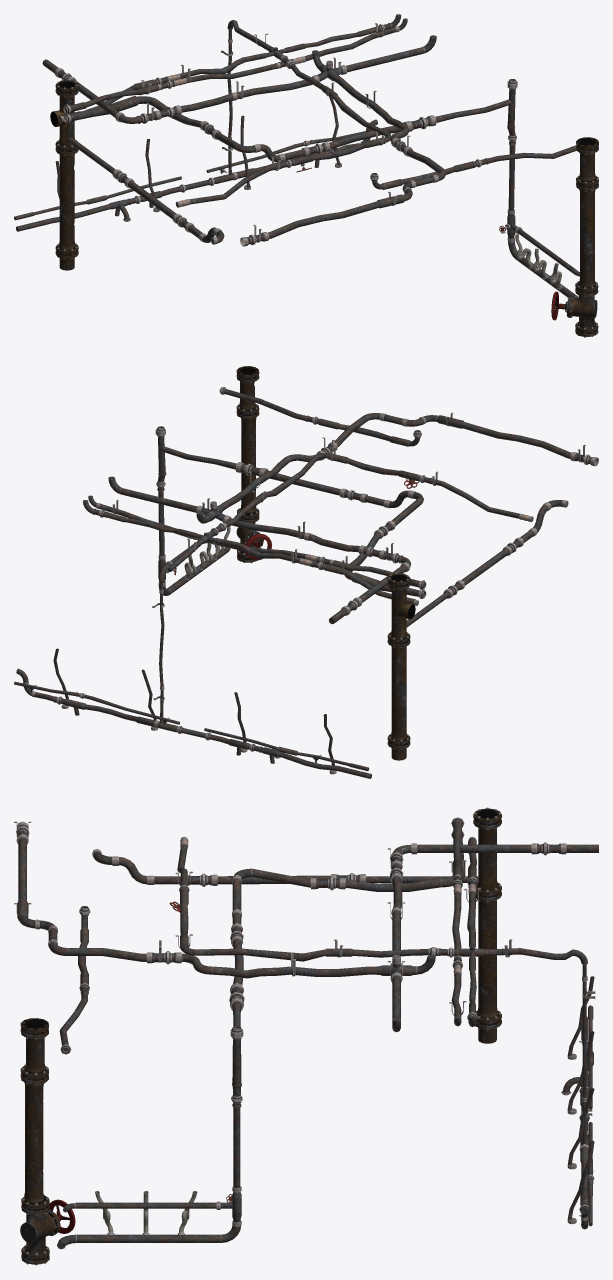
File: Toilet_Tubes_Set.fbx
The picture shows the model from 3 angles, top to bottom: view 1: azimuth 30°, elevation 25°; view 2: azimuth 150°, elevation 25°; view 3: azimuth 270°, elevation 25°; orthographic projection. The views are drawn at different scales.
Parts seen in each view (by area): view 1: TubeThin_Long02_low003, Object183, Tube_Bolt01_low001, BigTube_06_low003, BigTube_06_low002, Tube_Convers02_low001, Tube_X_Form_low003, Object201, Object202, Object180, Object182; view 2: TubeThin_Long02_low003, Tube_Bolt01_low001, Object183, BigTube_06_low002, BigTube_06_low003, Tube_X_Form_low003, Tube_Convers02_low001, Object201, Object180, Object202, Object182; view 3: Object183, TubeThin_Long02_low003, Tube_Bolt01_low001, BigTube_06_low003, BigTube_06_low002, Object201, Tube_Convers02_low001, Object182, Tube_X_Form_low003, Object202, Object180.
Part boxes in pixels (<box>): TubeThin_Long02_low003: <box>42,35,446,246</box>; Object183: <box>65,79,579,298</box>; Tube_Bolt01_low001: <box>59,14,401,244</box>; BigTube_06_low003: <box>551,137,598,337</box>; BigTube_06_low002: <box>50,79,78,270</box>; Tube_Convers02_low001: <box>63,18,407,123</box>; Tube_X_Form_low003: <box>16,119,377,231</box>; Object201: <box>68,137,224,242</box>; Object202: <box>370,145,576,189</box>; Object180: <box>14,131,365,220</box>; Object182: <box>55,96,341,212</box>; TubeThin_Long02_low003: <box>108,412,598,623</box>; Tube_Bolt01_low001: <box>83,453,568,723</box>; Object183: <box>155,426,424,596</box>; BigTube_06_low002: <box>387,573,415,760</box>; BigTube_06_low003: <box>236,366,271,563</box>; Tube_X_Form_low003: <box>16,668,371,778</box>; Tube_Convers02_low001: <box>88,495,426,598</box>; Object201: <box>406,500,563,627</box>; Object180: <box>14,681,369,771</box>; Object202: <box>219,387,421,446</box>; Object182: <box>53,648,336,774</box>; Object183: <box>57,835,465,1249</box>; TubeThin_Long02_low003: <box>14,821,598,1032</box>; Tube_Bolt01_low001: <box>92,836,595,1143</box>; BigTube_06_low003: <box>20,1018,75,1265</box>; BigTube_06_low002: <box>473,807,501,1043</box>; Object201: <box>93,851,479,886</box>; Tube_Convers02_low001: <box>449,817,466,1026</box>; Object182: <box>567,976,594,1224</box>; Tube_X_Form_low003: <box>561,1016,589,1229</box>; Object202: <box>59,906,90,1054</box>; Object180: <box>579,1005,594,1226</box>.
Size of the model in its own units: 809 by 416 by 903.
